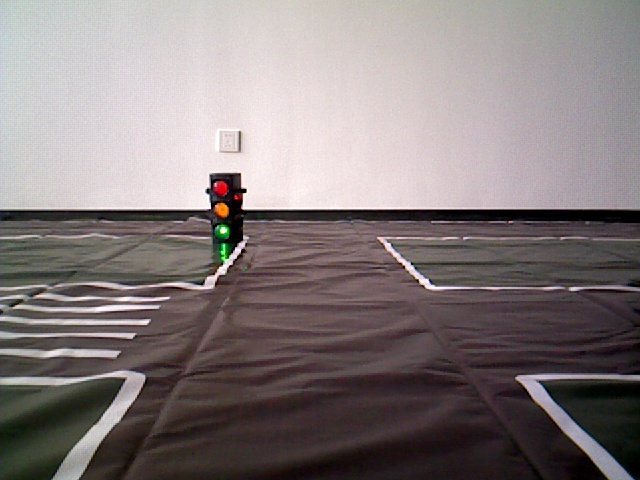green: (212, 174, 237, 241)
